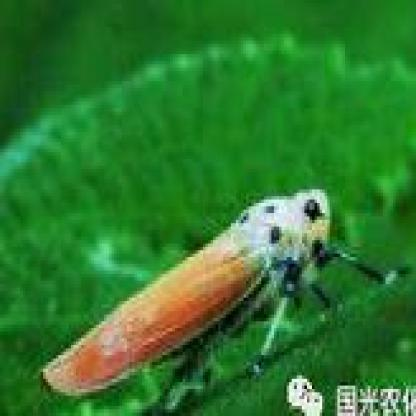grasshopper: (45, 183, 416, 391)
